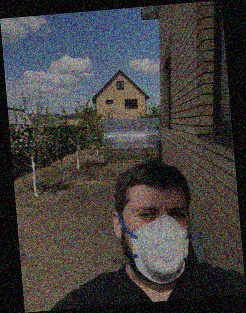with_mask: (125, 192, 191, 289)
